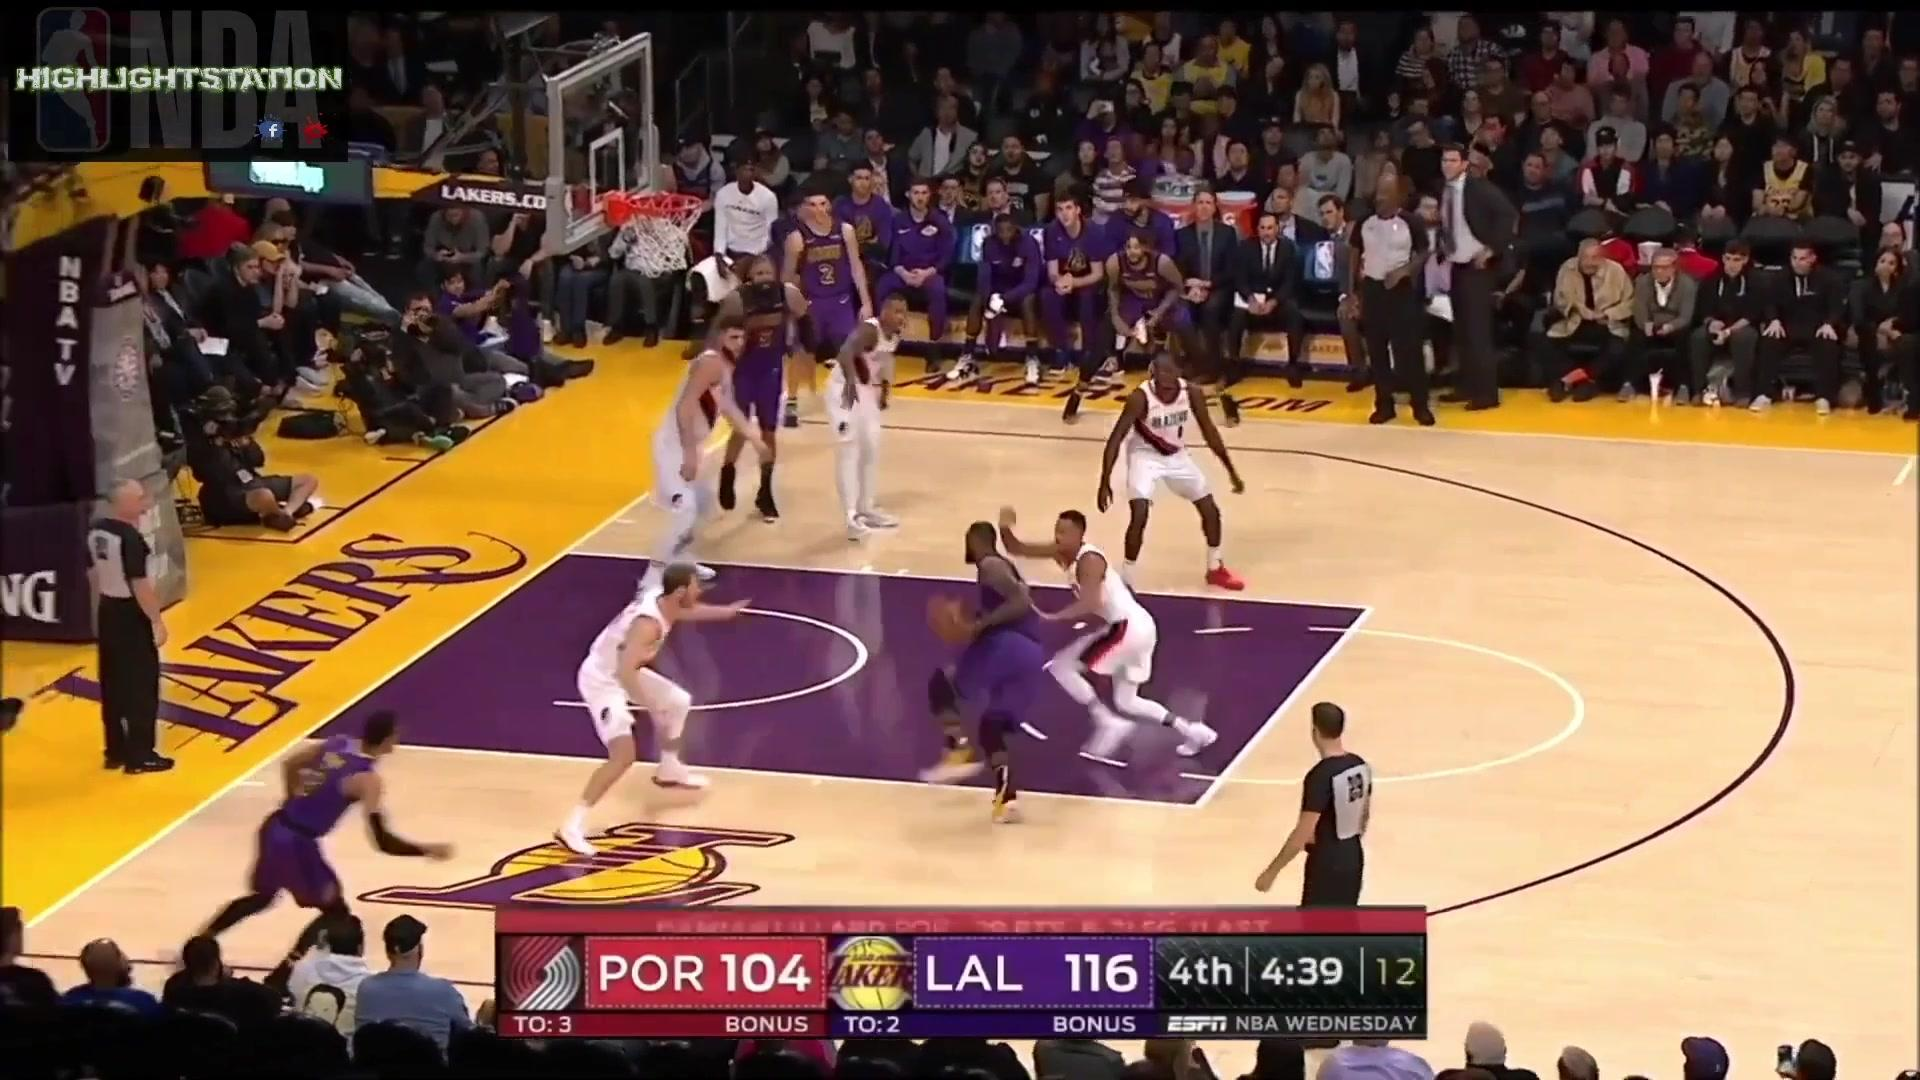no_foul: (913, 498, 1222, 837)
